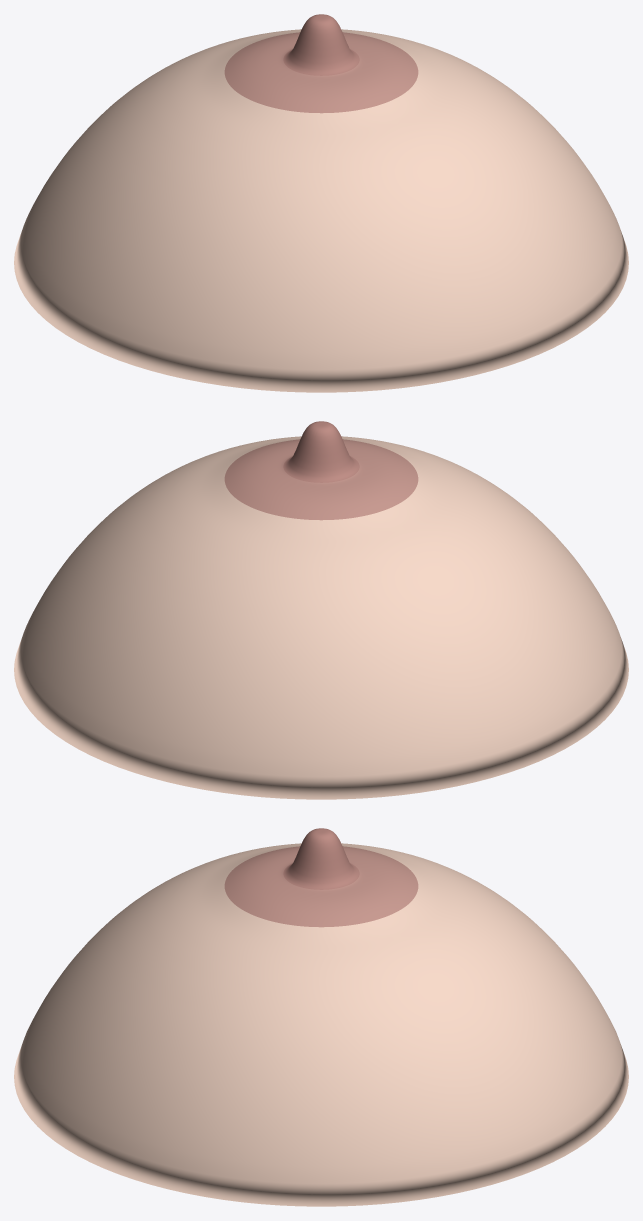
The model's file is bico-protuso.glb.
The picture shows the model from 3 angles, top to bottom: view 1: azimuth 30°, elevation 25°; view 2: azimuth 150°, elevation 25°; view 3: azimuth 270°, elevation 25°; orthographic projection.
Parts seen in each view (by area): view 1: seio; view 2: seio; view 3: seio.
Boxes of the visible parts, bbox=[...] form: seio: bbox=[14, 14, 628, 392]; seio: bbox=[14, 421, 628, 799]; seio: bbox=[14, 828, 628, 1206].
Bounding box in the file's own units: 0.12 × 0.0528 × 0.12.
